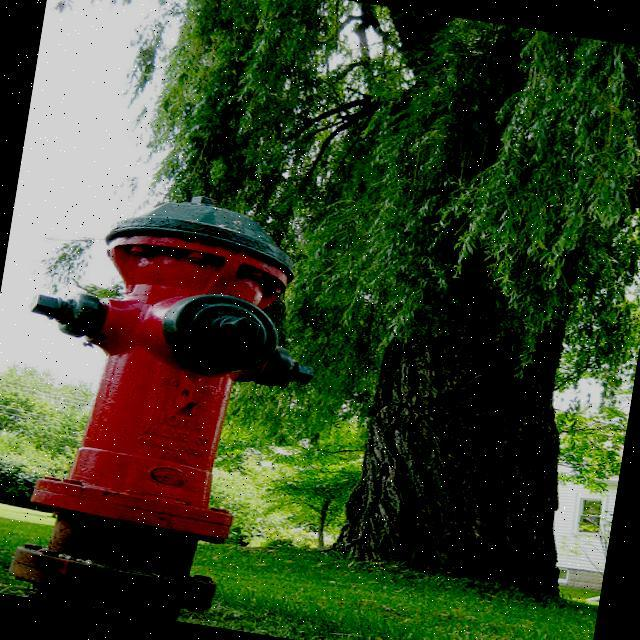fire_hydrant: (0, 171, 335, 636)
